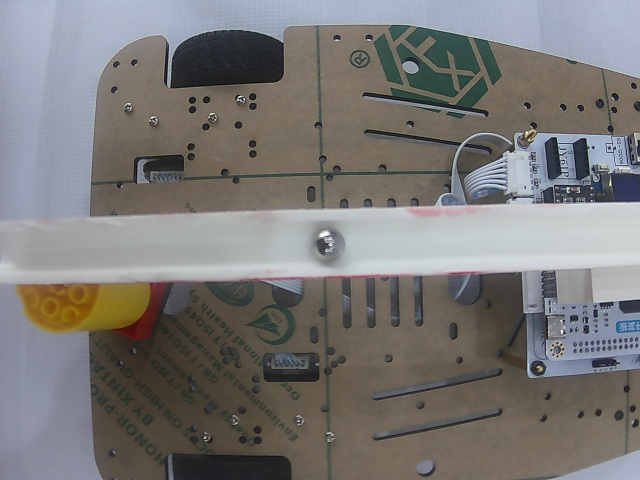steelball: (312, 228, 344, 259)
